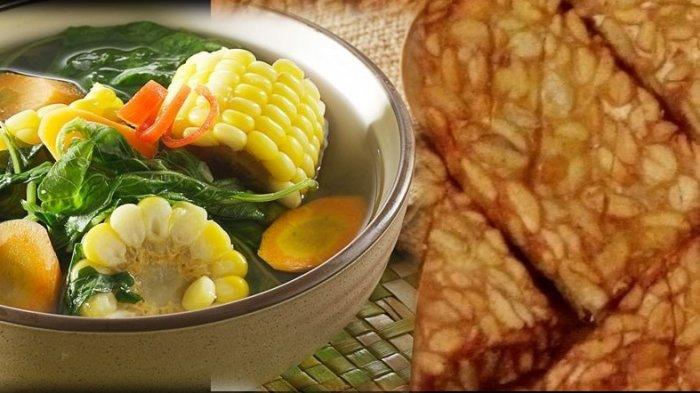Sayur Bayam: (1, 16, 396, 334)
